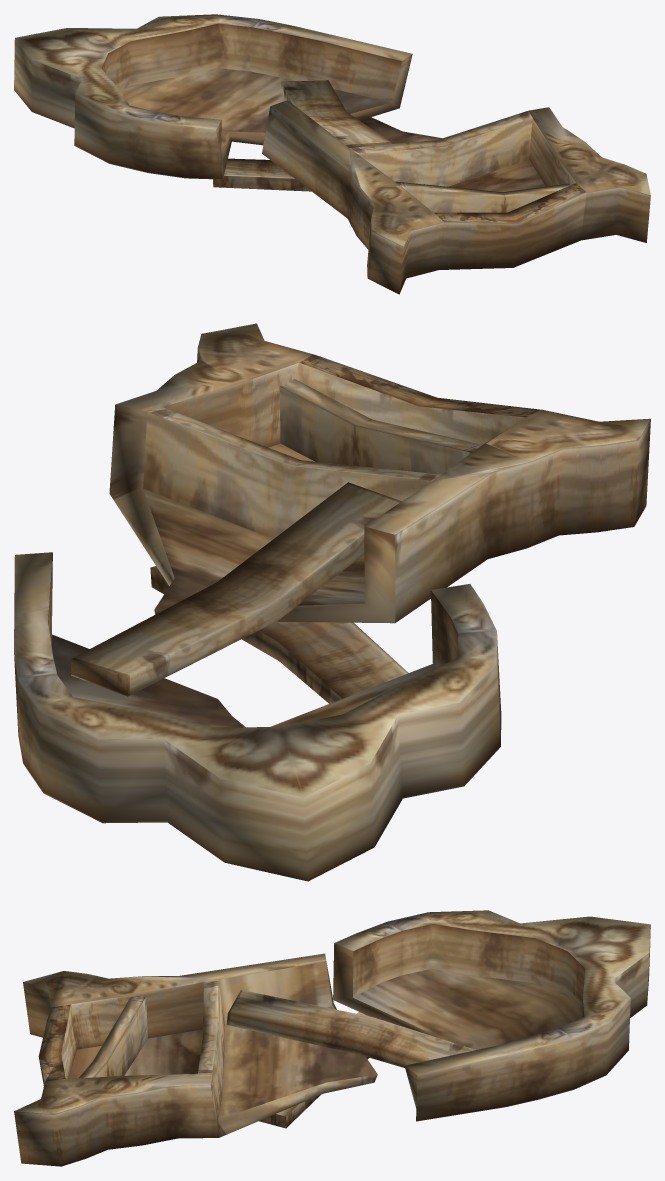
Rendered from be_bookshelf_wrecked_02.obj.
3 renders of one model, top to bottom at view 1: azimuth 30°, elevation 25°; view 2: azimuth 150°, elevation 25°; view 3: azimuth 270°, elevation 25°, orthographic. The views are drawn at different scales.
Parts seen in each view (by area): view 1: be_bookshelf_wrecked_02; view 2: be_bookshelf_wrecked_02; view 3: be_bookshelf_wrecked_02.
Boxes of the visible parts, x1,y1,x2,y2 form: be_bookshelf_wrecked_02: (14, 14, 650, 294); be_bookshelf_wrecked_02: (14, 323, 650, 881); be_bookshelf_wrecked_02: (14, 910, 650, 1166).
Size of the model in its own units: 3.26 by 0.7918 by 4.7.
1 material, 1 textured.
